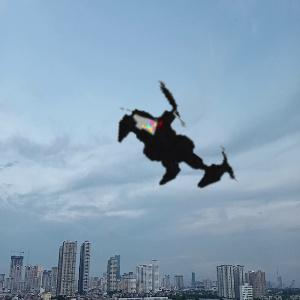drone: (86, 45, 277, 236)
